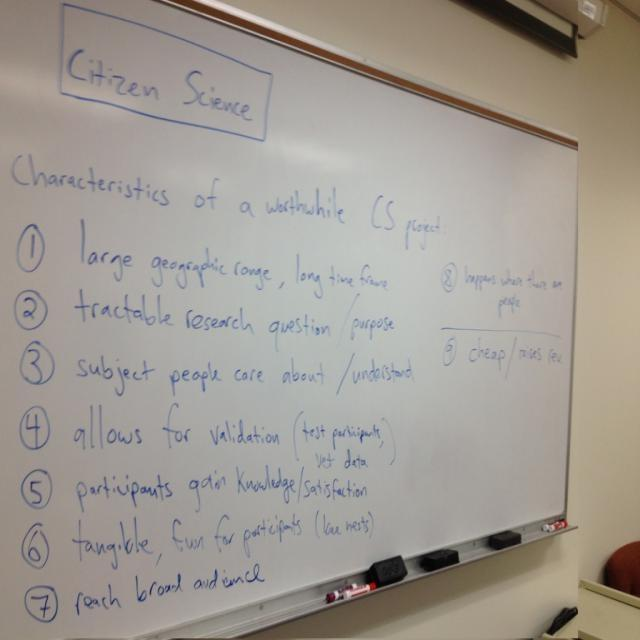Whiteboard: (0, 2, 579, 639)
